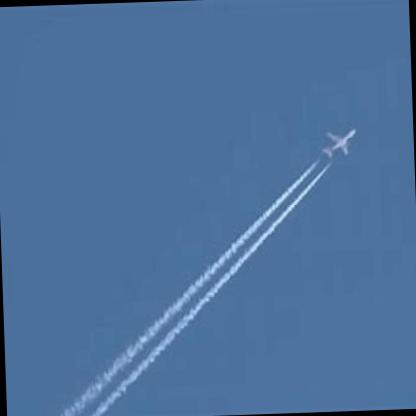plane: (320, 121, 363, 163)
